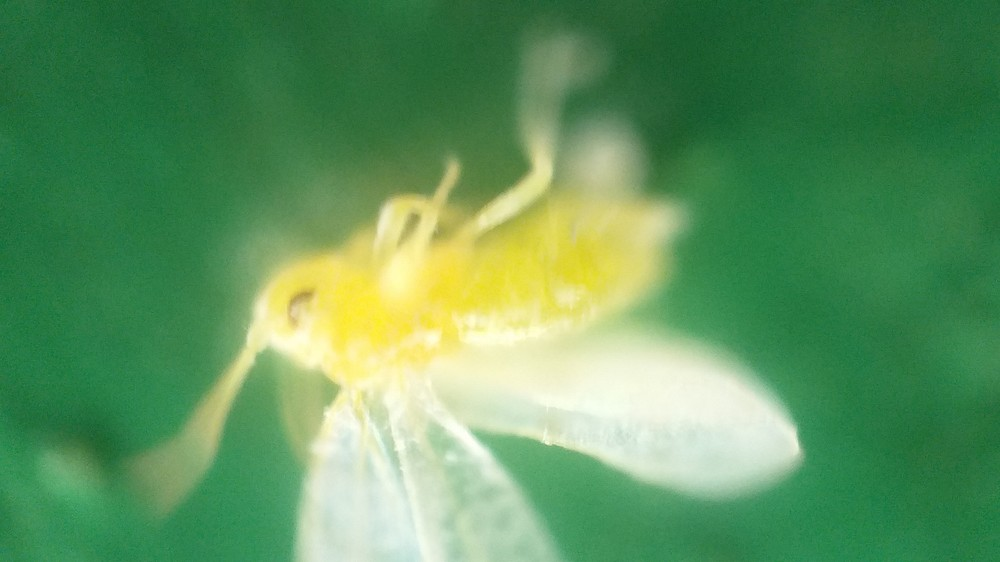Mosca Blanca: (148, 55, 817, 562)
